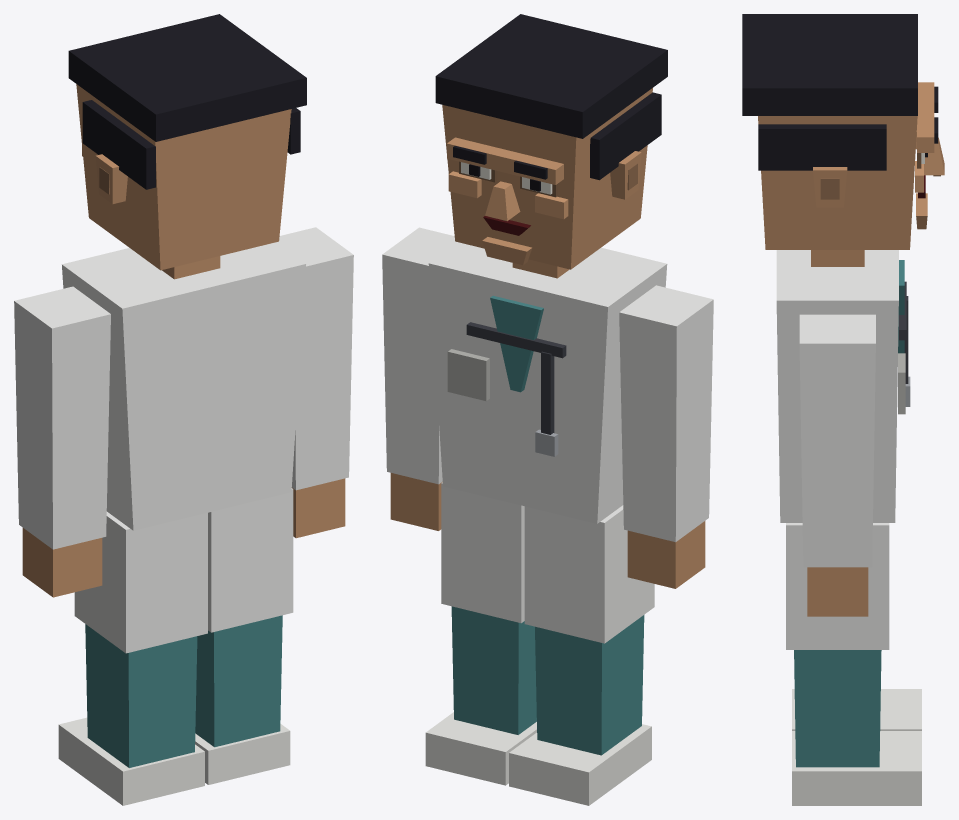
Rendered from doctor.glb.
The picture shows the model from 3 angles, left to right: view 1: azimuth 30°, elevation 25°; view 2: azimuth 150°, elevation 25°; view 3: azimuth 270°, elevation 25°; orthographic projection. The views are drawn at different scales.
Parts seen in each view (by area): view 1: Torso, Head, LegL, ArmL, LegR, ArmR, NeckMesh; view 2: Torso, Head, LegL, ArmL, LegR, ArmR; view 3: Head, LegR, ArmR, Torso, LegL, NeckMesh.
Boxes of the visible parts, box(x1,y1,x2,y2) form: Torso: box(62, 242, 305, 530); Head: box(68, 14, 306, 270); LegL: box(58, 511, 207, 805); ArmL: box(14, 286, 110, 597); LegR: box(195, 488, 293, 784); ArmR: box(277, 227, 353, 538); NeckMesh: box(162, 256, 220, 279); Torso: box(428, 242, 667, 523); Head: box(435, 14, 667, 269); LegL: box(509, 505, 654, 805); ArmL: box(619, 285, 713, 588); LegR: box(425, 482, 536, 785); ArmR: box(382, 227, 457, 530); Head: box(742, 14, 944, 249); LegR: box(786, 523, 921, 805); ArmR: box(799, 314, 875, 616); Torso: box(776, 250, 910, 522); LegL: box(792, 689, 921, 730); NeckMesh: box(811, 250, 864, 266).
Bounding box in the file's own units: 0.92 × 2.06 × 0.53.
